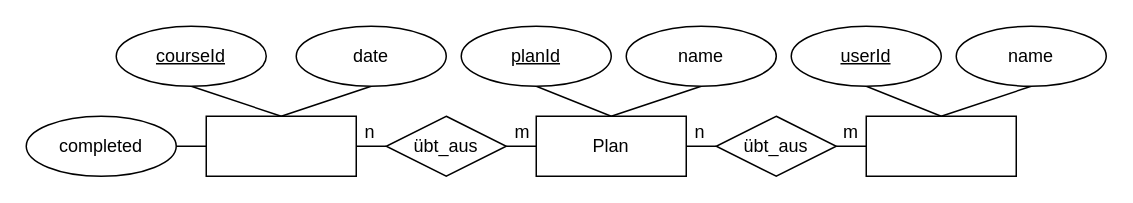
This 1133x203 diagram has some shape labels left out. The centre of each missing label's shape, as x and y in pixels:
Course: the point at 280,145
User: the point at 940,145
